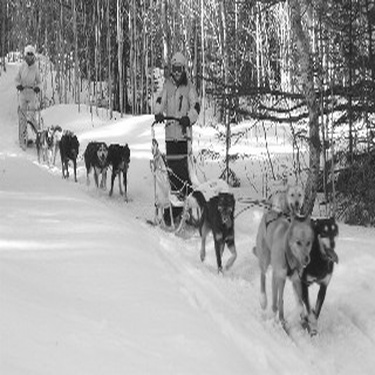dog: (249, 208, 314, 340), (279, 208, 341, 331), (190, 187, 240, 273), (168, 174, 240, 232), (263, 175, 305, 221), (105, 140, 132, 204), (25, 112, 55, 165), (82, 135, 109, 191), (45, 122, 78, 166), (57, 131, 80, 185)
